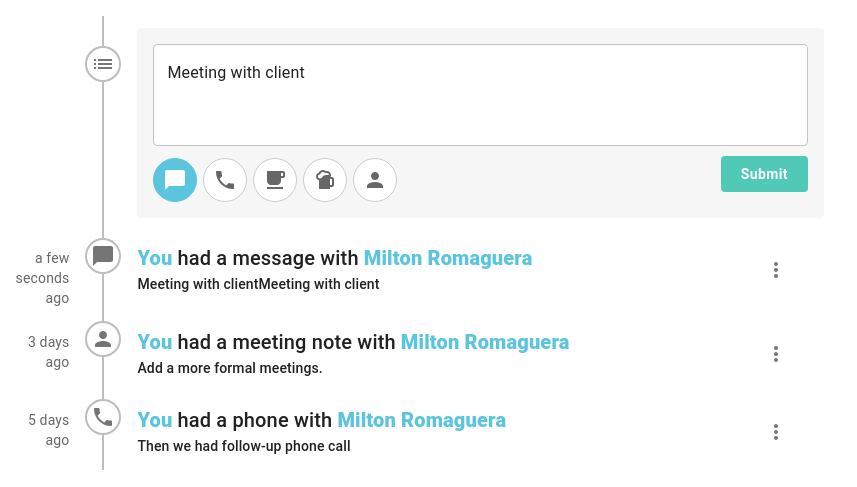
Test: App › allows users to remove an activity type
Click the 2nd button.
click(776, 270)  # box [756,250,796,290]
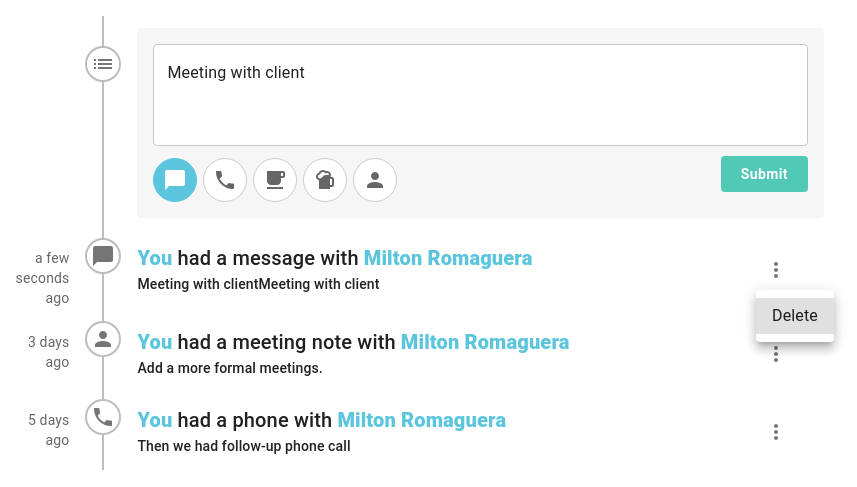
Click the menu item "Delete".
click(795, 316)  # box [756,298,834,334]
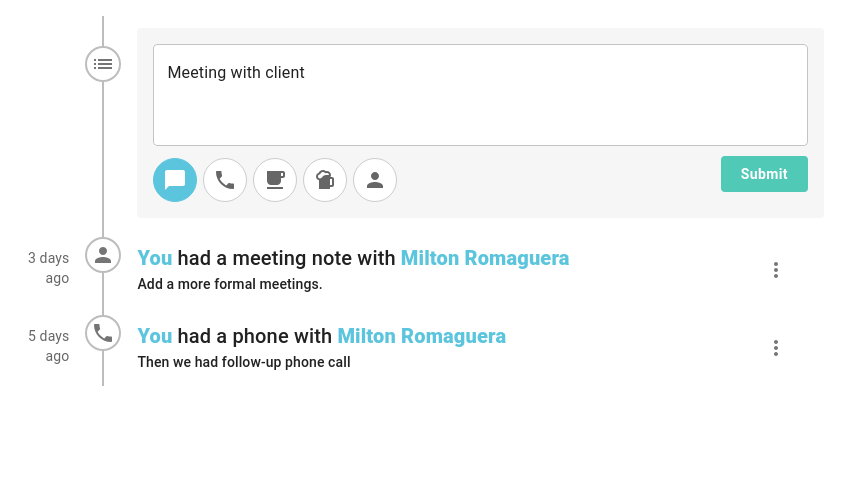
Check: the text "Milton Romaguera" is shown 2 times, box [401,246,570,270]; [337,324,506,348]
